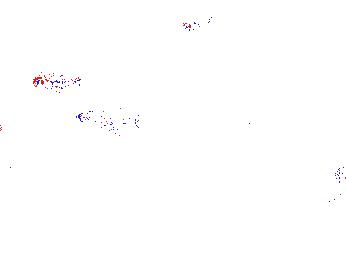X-ray fish: (333, 163, 346, 186), (96, 141, 109, 159)
red belly glassfish: (32, 73, 81, 90), (182, 17, 215, 32)
redtail glassfish: (235, 107, 305, 135), (74, 109, 143, 131)
